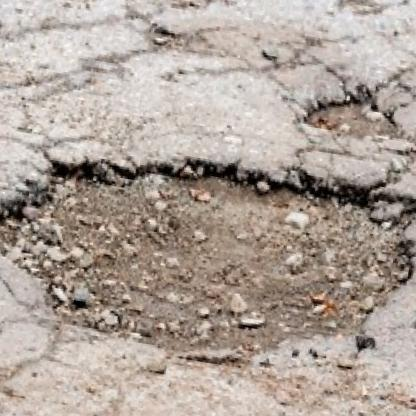pothole: (0, 119, 416, 396), (297, 78, 406, 148)
